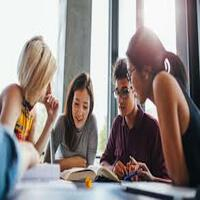person: (121, 20, 180, 105), (102, 47, 149, 118), (65, 54, 100, 140), (20, 30, 57, 107)
